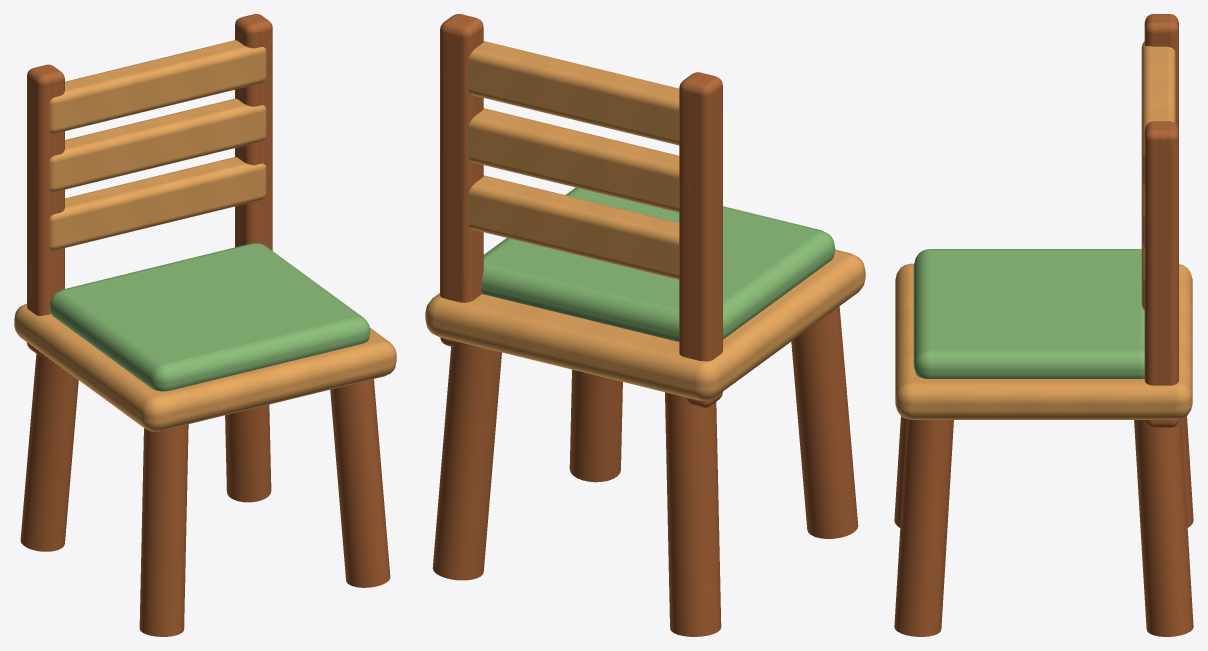
File: CHAIR.glb
The picture shows the model from 3 angles, left to right: view 1: azimuth 30°, elevation 25°; view 2: azimuth 150°, elevation 25°; view 3: azimuth 270°, elevation 25°; orthographic projection. The views are drawn at different scales.
Visible parts, largest first — view 1: CHAIR; view 2: CHAIR; view 3: CHAIR.
Boxes of the visible parts, box(x1,y1,x2,y2) form: CHAIR: box(14, 14, 396, 636); CHAIR: box(425, 14, 865, 636); CHAIR: box(894, 14, 1193, 636).
Bounding box in the file's own units: 0.5 × 0.898 × 0.4827.
3 materials, 3 textured.
